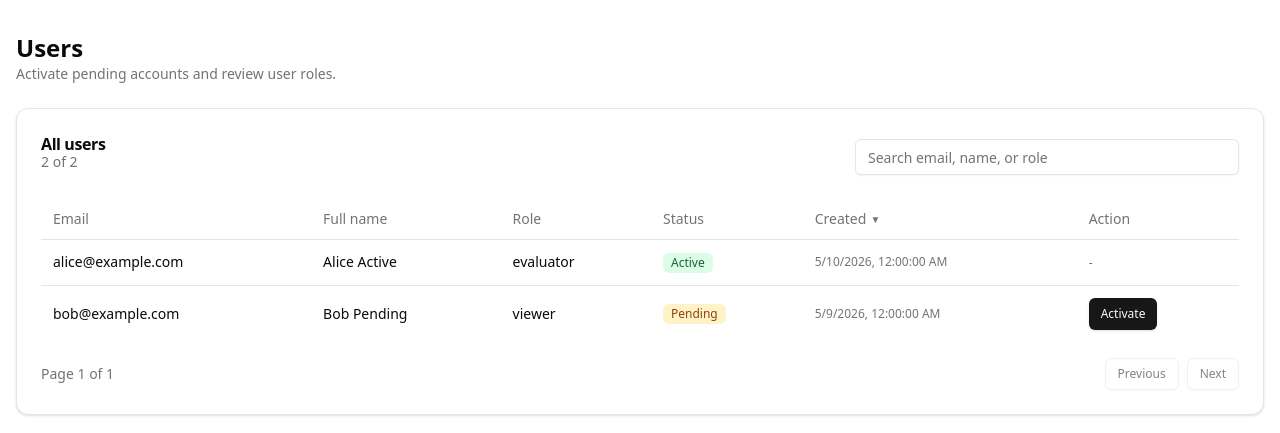
Test: AdminUsersPage › activates a pending user, refreshes the list, and shows a success toast
Click the button "Activate". click: (1123, 314)
box: [1089,298,1157,330]
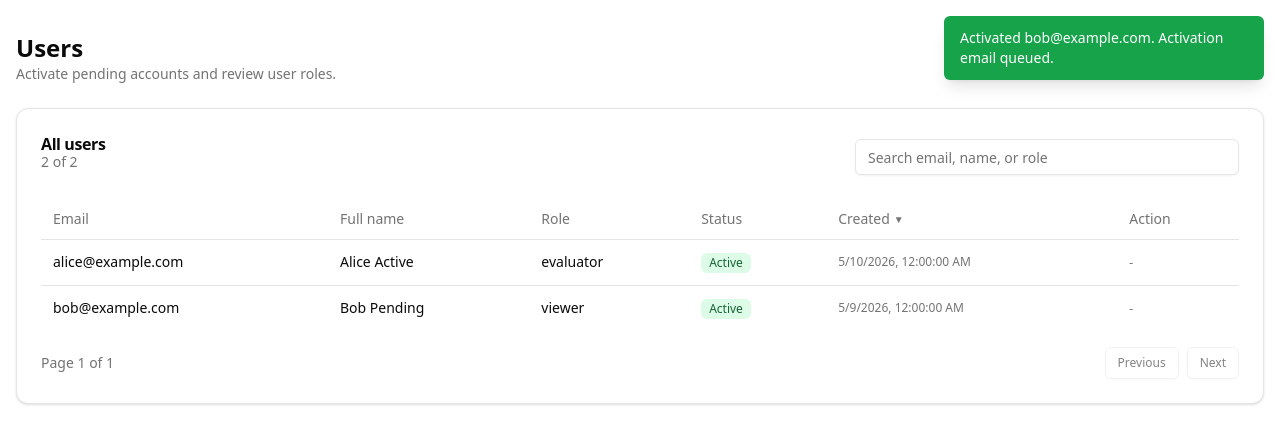
expect the message with test id "toast-success" shows "bob@example": met, box [960,28,1223,67]
